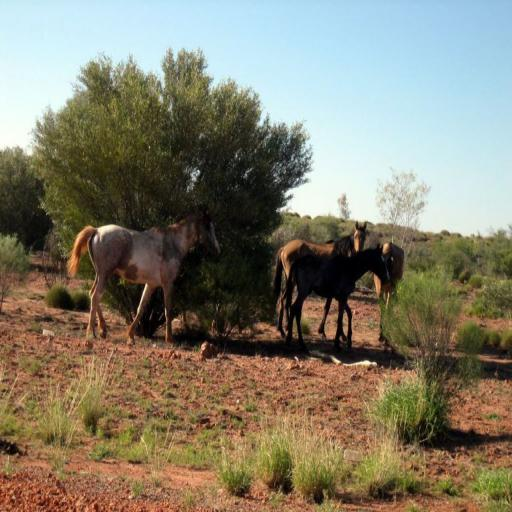horse: (63, 210, 222, 342), (282, 242, 394, 348), (279, 216, 369, 340), (372, 240, 406, 346)
